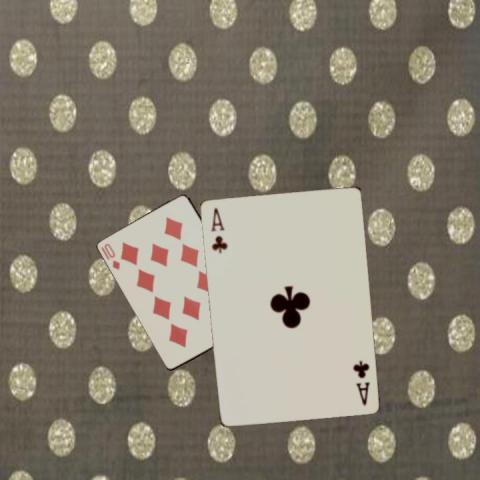10d: (101, 241, 122, 271)
Ac: (207, 205, 228, 255), (350, 357, 371, 407)
